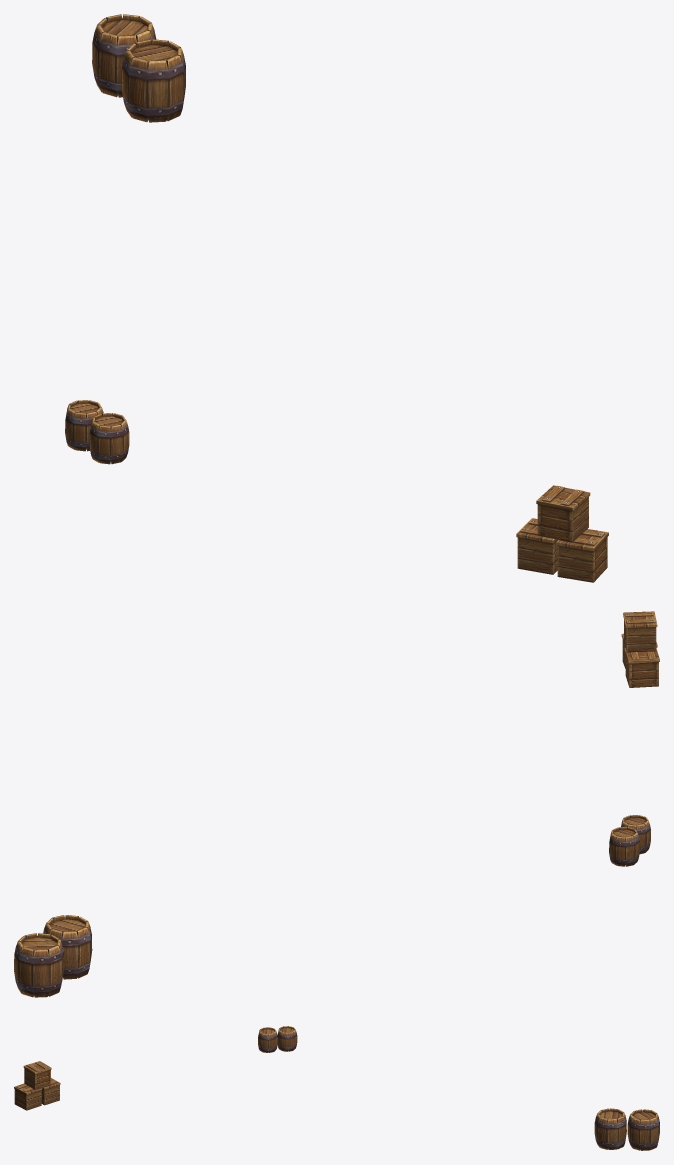
File: Area_13_60.fbx
The picture shows the model from 3 angles, top to bottom: view 1: azimuth 30°, elevation 25°; view 2: azimuth 150°, elevation 25°; view 3: azimuth 270°, elevation 25°; orthographic projection. The views are drawn at different scales.
Visible parts, largest first — view 1: Area_13_60; view 2: Area_13_60; view 3: Area_13_60.
Part boxes in pixels (x1,y1,x2,y2): Area_13_60: [65, 14, 608, 582]; Area_13_60: [14, 611, 659, 997]; Area_13_60: [14, 1026, 659, 1150].
Size of the model in its own units: 961 by 157 by 2433.
